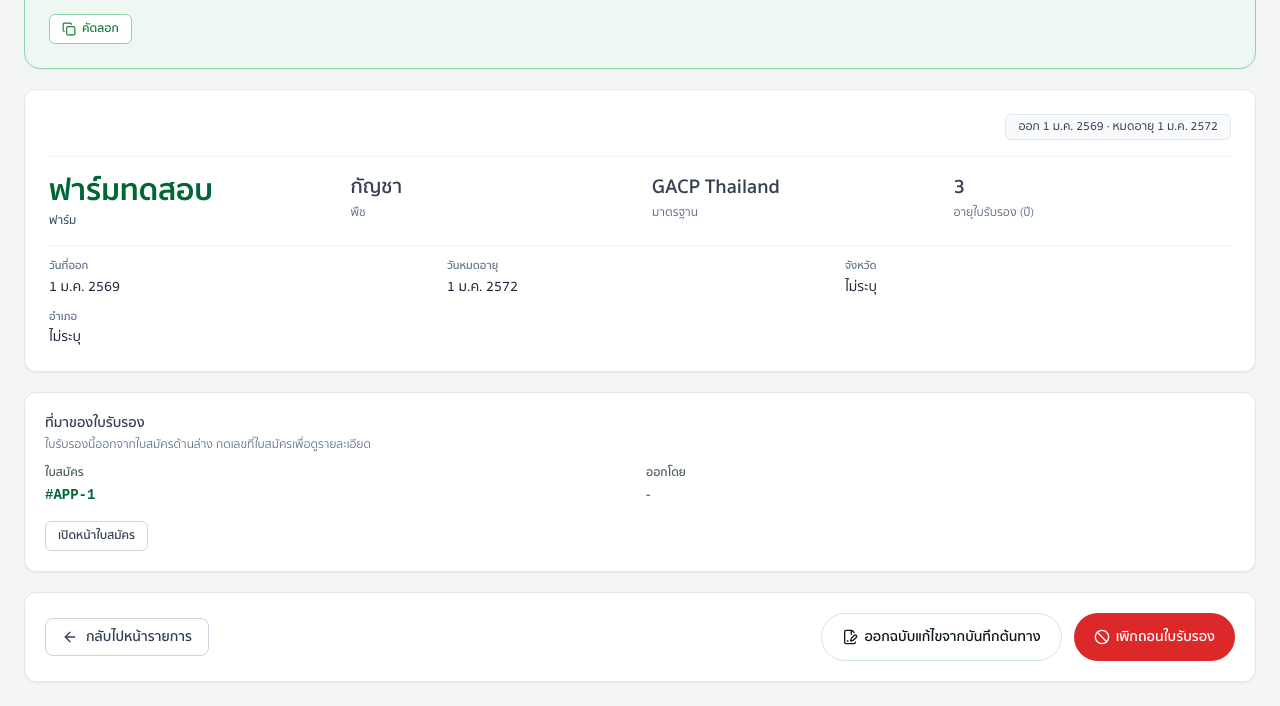
/admin/certificates/[id] — revoke dialog wired to the real door › (a) opening the dialog shows a labelled reason textarea and a disabled confirm
(page scrolled)
Click the button "เพิกถอนใบรับรอง" at {"x": 1154, "y": 637}, box [1074, 613, 1235, 661]
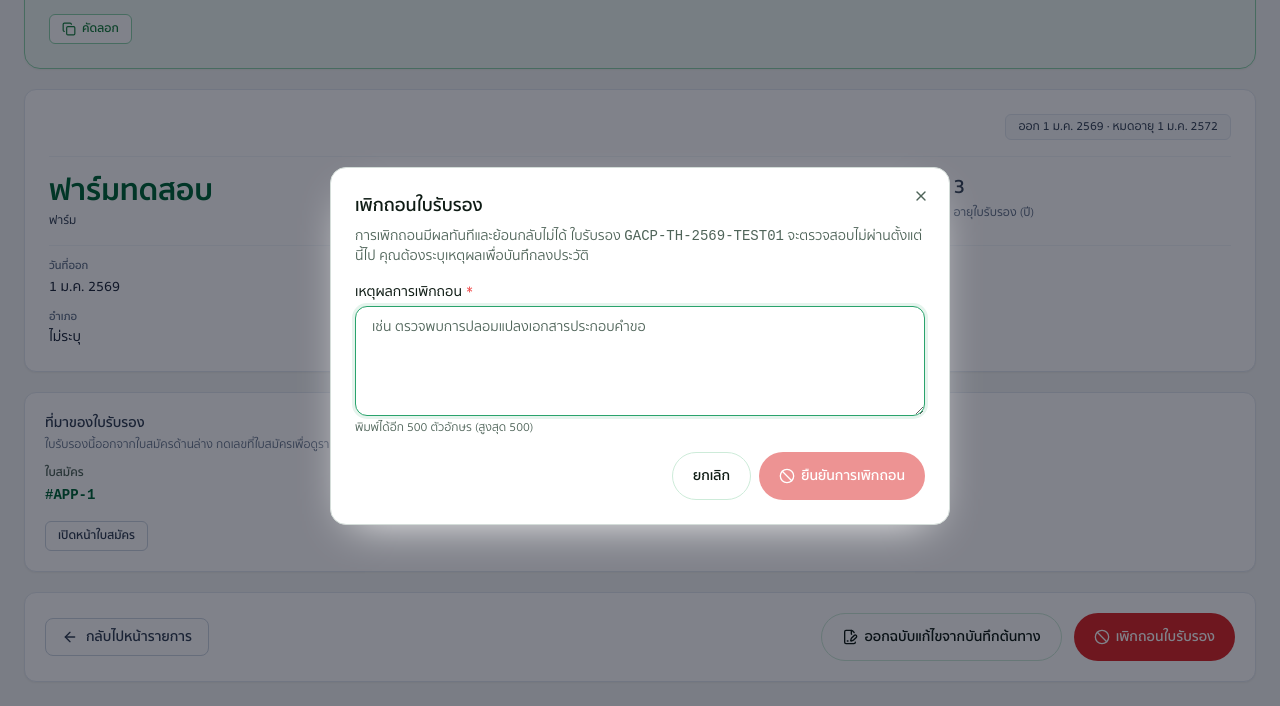
Result: the text box labelled "เหตุผลการเพิกถอน*" is shown at [355, 306, 925, 416]
Result: the button "ยืนยันการเพิกถอน" is disabled at [759, 452, 925, 500]
